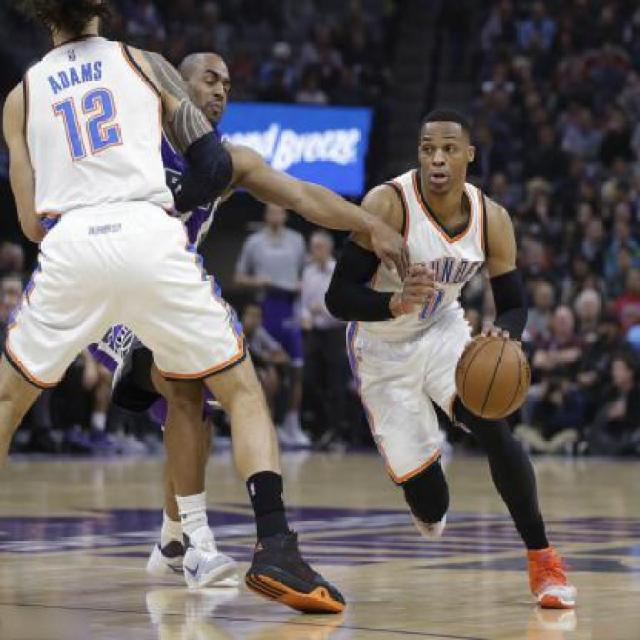Person: (336, 73, 516, 525)
